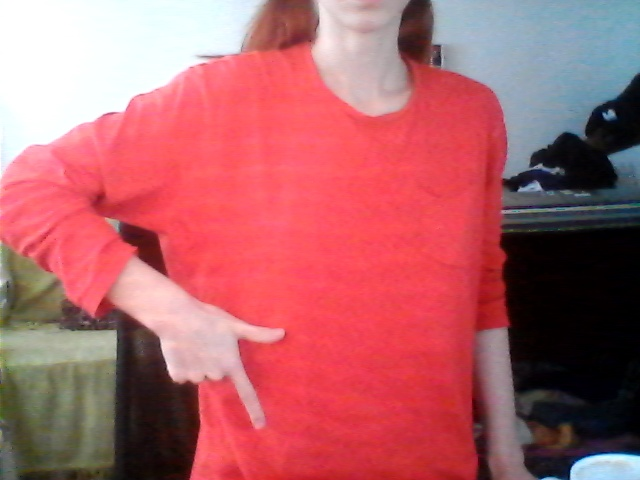policia: (128, 286, 311, 447)
